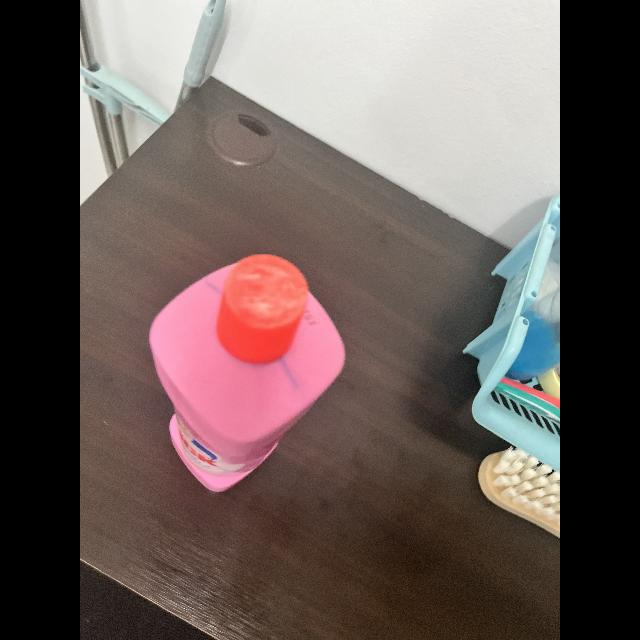chemical_plastic_bottle: (144, 250, 352, 500)
